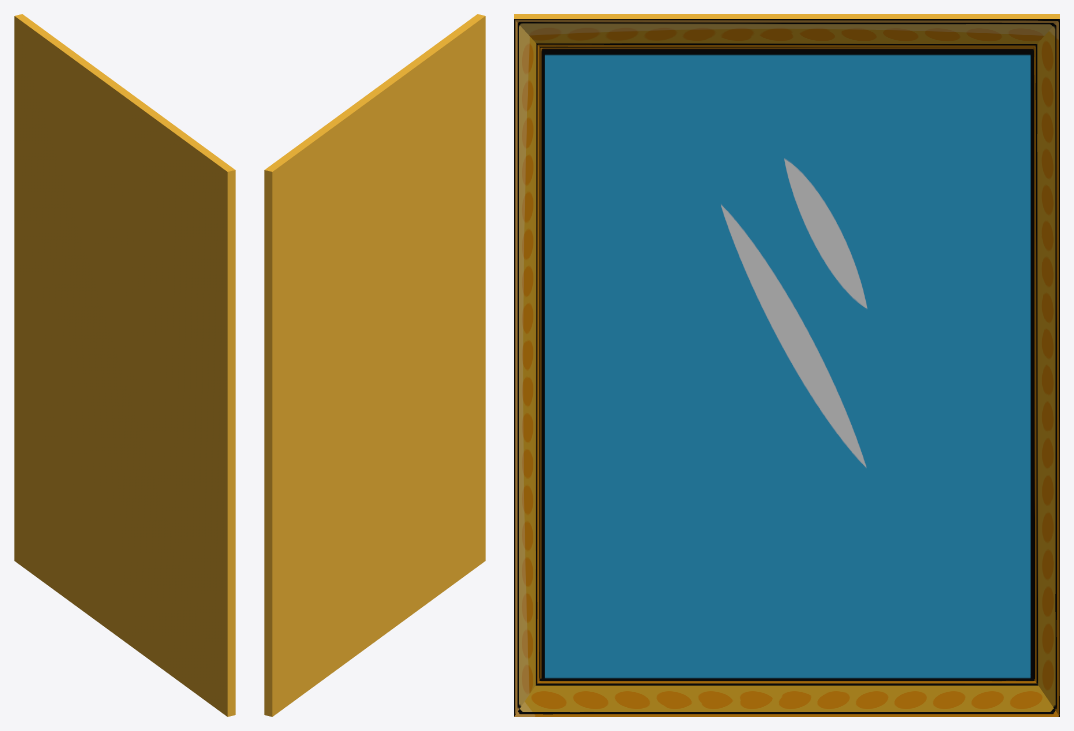
File: Espejo.fbx
The picture shows the model from 3 angles, left to right: view 1: azimuth 30°, elevation 25°; view 2: azimuth 150°, elevation 25°; view 3: azimuth 270°, elevation 25°; orthographic projection. The views are drawn at different scales.
Visible parts, largest first — view 1: Cube; view 2: Cube; view 3: Cube.
Part boxes in pixels (<box>): Cube: <box>14,14,235,716</box>; Cube: <box>264,14,485,716</box>; Cube: <box>514,14,1059,716</box>.
Size of the model in its own units: 5.28 by 347 by 246.
2 materials, 1 textured.
